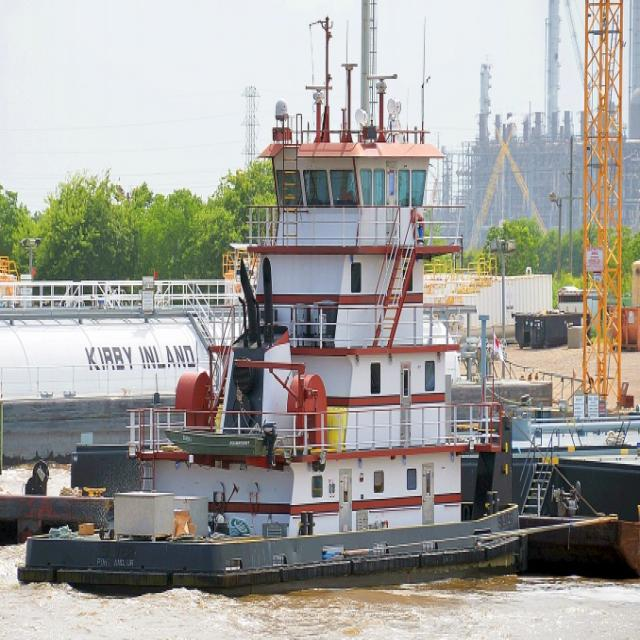tugboat: (14, 126, 532, 616)
